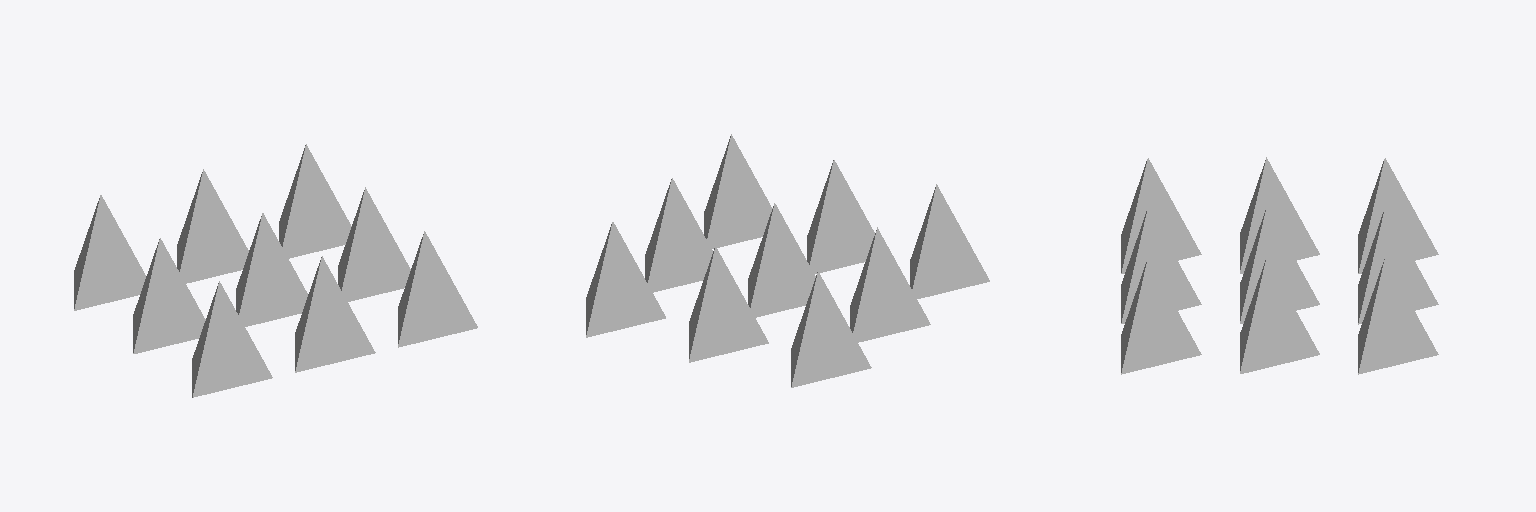
File: spikesLightest.obj
The picture shows the model from 3 angles: view 1: azimuth 30°, elevation 25°; view 2: azimuth 150°, elevation 25°; view 3: azimuth 270°, elevation 25°; orthographic projection.
Visible parts, largest first — view 1: Cone.001_Cone.002, Cone.004_Cone.005, Cone.008_Cone.009, Cone.002_Cone.003, Cone.003_Cone.004, Cone.007_Cone.008, Cone.006_Cone.007, Cone_Cone.001, Cone.005_Cone.006; view 2: Cone.003_Cone.004, Cone.006_Cone.007, Cone.005_Cone.006, Cone.002_Cone.003, Cone.001_Cone.002, Cone.007_Cone.008, Cone.008_Cone.009, Cone.004_Cone.005, Cone_Cone.001; view 3: Cone.008_Cone.009, Cone.006_Cone.007, Cone.007_Cone.008, Cone.005_Cone.006, Cone.003_Cone.004, Cone.004_Cone.005, Cone.001_Cone.002, Cone.002_Cone.003, Cone_Cone.001.
Part boxes in pixels (x1,y1,x2,y2): Cone.001_Cone.002: (192,281,272,397); Cone.004_Cone.005: (295,256,375,372); Cone.008_Cone.009: (398,231,477,347); Cone.002_Cone.003: (133,238,205,353); Cone.003_Cone.004: (74,195,145,310); Cone.007_Cone.008: (338,187,410,301); Cone.006_Cone.007: (279,144,351,258); Cone_Cone.001: (236,213,307,326); Cone.005_Cone.006: (177,169,248,283); Cone.003_Cone.004: (791,271,871,387); Cone.006_Cone.007: (586,222,665,337); Cone.005_Cone.006: (689,246,768,362); Cone.002_Cone.003: (850,227,930,342); Cone.001_Cone.002: (910,184,989,298); Cone.007_Cone.008: (645,178,712,292); Cone.008_Cone.009: (704,134,772,248); Cone.004_Cone.005: (807,160,874,273); Cone_Cone.001: (748,203,815,317); Cone.008_Cone.009: (1121,258,1201,374); Cone.006_Cone.007: (1358,258,1438,374); Cone.007_Cone.008: (1240,257,1319,373); Cone.005_Cone.006: (1358,208,1438,324); Cone.003_Cone.004: (1358,158,1438,273); Cone.004_Cone.005: (1121,208,1201,323); Cone.001_Cone.002: (1121,158,1201,273); Cone.002_Cone.003: (1240,157,1319,273); Cone_Cone.001: (1240,207,1319,323).
Bounding box in the file's own units: 2.79 × 0.91 × 2.68.